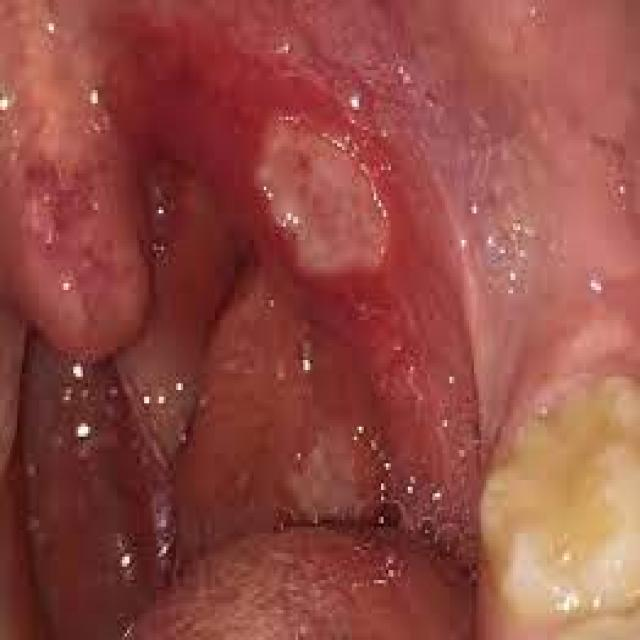processing_area: (1, 0, 638, 637)
ulcer-detection: (209, 59, 447, 305)
